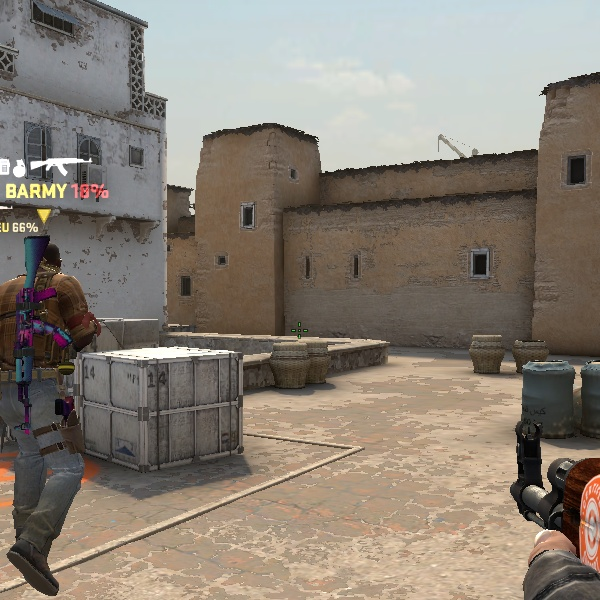t_body: (5, 227, 115, 591)
t_head: (22, 237, 70, 290)
